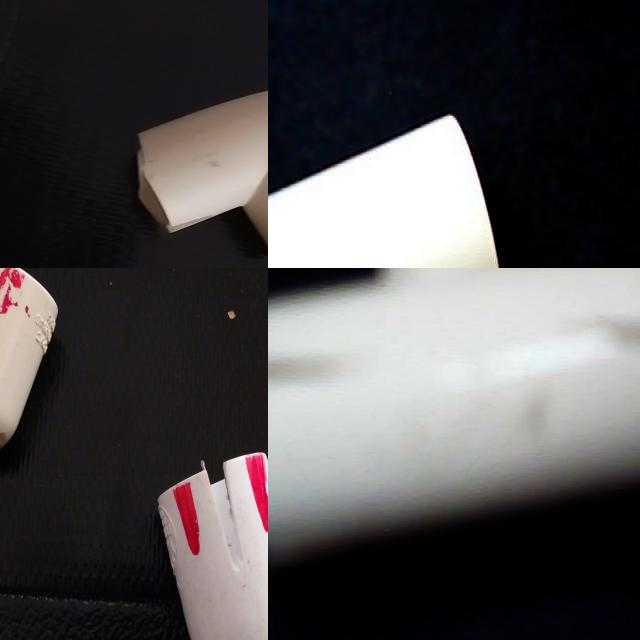Defective: (148, 298, 216, 366), (588, 291, 640, 371), (268, 335, 338, 390), (0, 546, 58, 604)
L Joint: (136, 91, 268, 254), (64, 268, 216, 401)
T Joint: (278, 268, 640, 640), (268, 114, 500, 268)
